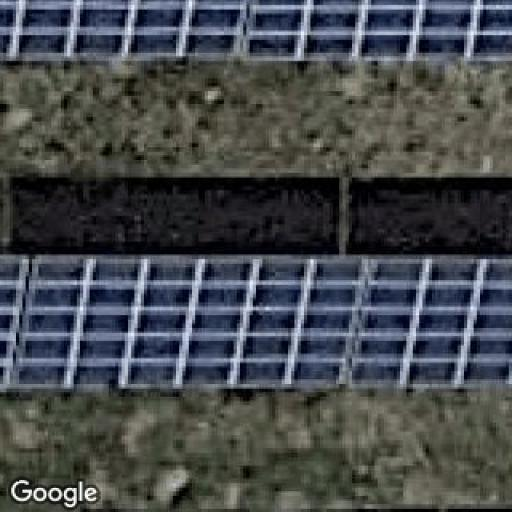solar-panel: (0, 253, 512, 395), (0, 0, 512, 67)
